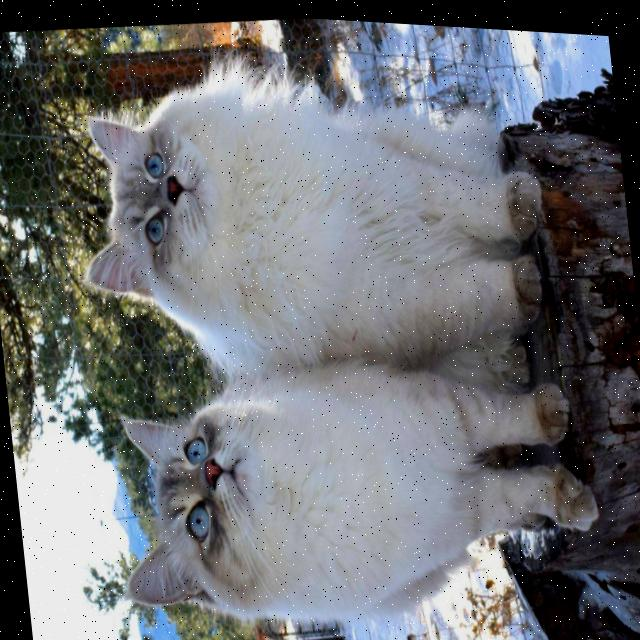Neva Masquerade: (58, 7, 560, 394), (95, 320, 614, 640)
